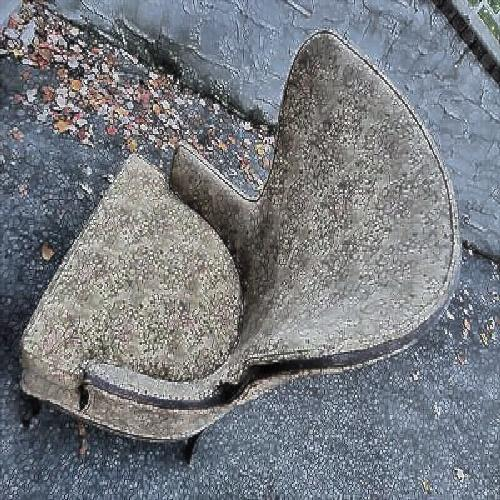chair: (68, 74, 439, 428)
